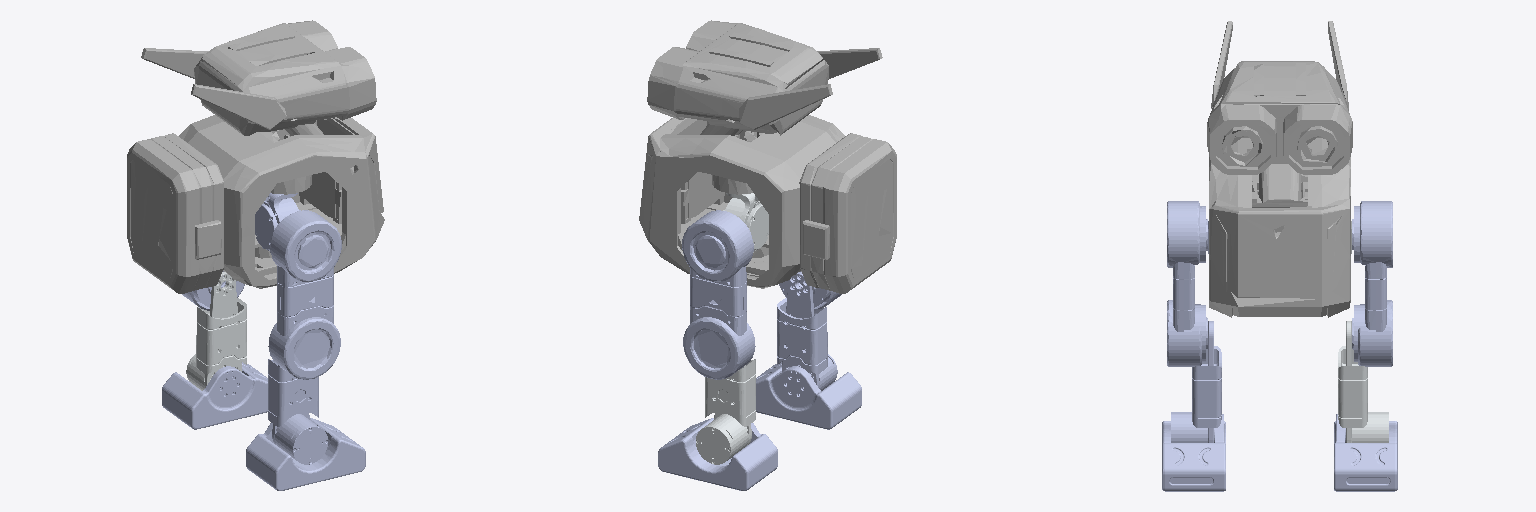
URDF robot description (kudada):
<?xml version="1.0" encoding="utf-8"?>
<!-- This URDF was automatically created by SolidWorks to URDF Exporter! Originally created by Stephen Brawner (brawner@gmail.com) 
     Commit Version: 1.6.0-4-g7f85cfe  Build Version: 1.6.7995.38578
     For more information, please see http://wiki.ros.org/sw_urdf_exporter -->
<robot
  name="kudada">
 <mujoco>
    <compiler
      meshdir="meshes/"
      balanceinertia="true"
      discardvisual="false" />
  </mujoco>
  <link
    name="base_link">
    <inertial>
      <origin
        xyz="-0.017221 0.0018941 0.12559"
        rpy="0 0 0" />
      <mass
         value="6.88358184" />
      <inertia
        ixx="0.05288804"
        ixy="-0.00074173"
        ixz="-0.00220846"
        iyy="0.10317140"
        iyz="-0.00015648"
        izz="0.08489837" />
    </inertial>
    <visual>
      <origin
        xyz="0 0 0"
        rpy="0 0 0" />
      <geometry>
        <mesh
          filename="./meshes/base_link.STL" />
      </geometry>
      <material
        name="">
        <color
          rgba="0.752941176470588 0.752941176470588 0.752941176470588 1" />
      </material>
    </visual>
    <collision>
      <origin
        xyz="0 0 0"
        rpy="0 0 0" />
      <geometry>
        <mesh
          filename="./meshes/base_link.STL" />
      </geometry>
    </collision>
  </link>
  <link
    name="left_leg_hip_yaw_link">
    <inertial>
      <origin
        xyz="-0.0113132110971734 3.39888130022198E-06 -0.0502782907554844"
        rpy="0 0 0" />
        <mass
        value="0.24208879" />
      <inertia
        ixx="0.00023768"
        ixy="0.00000000"
        ixz="-0.00001038"
        iyy="0.00018515"
        iyz="0.00000000"
        izz="0.00012378" />
    </inertial>
    <visual>
      <origin
        xyz="0 0 0"
        rpy="0 0 0" />
      <geometry>
        <mesh
          filename="./meshes/left_yaw_Link.STL" />
      </geometry>
      <material
        name="">
        <color
          rgba="0.898039215686275 0.917647058823529 0.929411764705882 1" />
      </material>
    </visual>
    <!-- <collision>
      <origin
        xyz="0 0 0"
        rpy="0 0 0" />
      <geometry>
        <mesh
          filename="./meshes/left_yaw_Link.STL" />
      </geometry>
    </collision> -->
  </link>
  <joint
    name="left_leg_hip_yaw_joint"
    type="revolute">
    <origin
      xyz="0.0021529 0.048 0.1225"
      rpy="0 0 0" />
    <parent
      link="base_link" />
    <child
      link="left_leg_hip_yaw_link" />
    <axis
      xyz="0 0 1" />
    <limit
      lower="-0.66"
      upper="0.66"
      effort="12"
      velocity="20" />
  </joint>
  <link
    name="left_leg_hip_roll_link">
    <inertial>
      <origin
        xyz="-0.00530397952891303 0.0286195707538739 5.55294699111641E-12"
        rpy="0 0 0" />
     <mass
        value="0.05746616" />
      <inertia
        ixx="0.00003268"
        ixy="0.00000947"
        ixz="0.00000000"
        iyy="0.00001877"
        iyz="0.00000000"
        izz="0.00003543" />
    </inertial>
    <visual>
      <origin
        xyz="0 0 0"
        rpy="0 0 0" />
      <geometry>
        <mesh
          filename="./meshes/left_roll_Link.STL" />
      </geometry>
      <material
        name="">
        <color
          rgba="0.898039215686275 0.917647058823529 0.929411764705882 1" />
      </material>
    </visual>
    <!-- <collision>
      <origin
        xyz="0 0 0"
        rpy="0 0 0" />
      <geometry>
        <mesh
          filename="./meshes/left_roll_Link.STL" />
      </geometry>
    </collision> -->
  </link>
  <joint
    name="left_leg_hip_roll_joint"
    type="revolute">
    <origin
      xyz="0.0115 0 -0.0572"
      rpy="0 0 0" />
    <parent
      link="left_leg_hip_yaw_link" />
    <child
      link="left_leg_hip_roll_link" />
    <axis
      xyz="1 0 0" />
    <limit
      lower="-0.57"
      upper="0.57"
      effort="20"
      velocity="20" />
  </joint>
  <link
    name="left_leg_hip_pitch_link">
    <inertial>
      <origin
        xyz="-0.000701920317146082 0.030511142063064 -0.0742626802837654"
        rpy="0 0 0" />
   <mass
        value="0.65305052" />
      <inertia
        ixx="0.00332594"
        ixy="0.00000034"
        ixz="-0.00003030"
        iyy="0.00354141"
        iyz="0.00001107"
        izz="0.00043907" />
    </inertial>
    <visual>
      <origin
        xyz="0 0 0"
        rpy="0 0 0" />
      <geometry>
        <mesh
          filename="./meshes/left_hip_pitch_Link.STL" />
      </geometry>
      <material
        name="">
        <color
          rgba="0.792156862745098 0.819607843137255 0.933333333333333 1" />
      </material>
    </visual>
    <!-- <collision>
      <origin
        xyz="0 0 0"
        rpy="0 0 0" />
      <geometry>
        <mesh
          filename="./meshes/left_hip_pitch_Link.STL" />
      </geometry>
    </collision> -->
  </link>
  <joint
    name="left_leg_hip_pitch_joint"
    type="revolute">
    <origin
      xyz="-0.0245 0.0505 0"
      rpy="0 0 0" />
    <parent
      link="left_leg_hip_roll_link" />
    <child
      link="left_leg_hip_pitch_link" />
    <axis
      xyz="0 1 0" />
    <limit
      lower="-1.57"
      upper="1.57"
      effort="20"
      velocity="20" />
  </joint>
  <link
    name="left_leg_knee_pitch_link">
    <inertial>
      <origin
        xyz="-0.000342965208265886 0.00892811710655056 -0.10827125730985"
        rpy="0 0 0" />
     <mass
        value="0.31486113" />
      <inertia
        ixx="0.00082666"
        ixy="-0.00000058"
        ixz="-0.00000277"
        iyy="0.00081264"
        iyz="0.00014641"
        izz="0.00018333" />
    </inertial>
    <visual>
      <origin
        xyz="0 0 0"
        rpy="0 0 0" />
      <geometry>
        <mesh
          filename="./meshes/left_knee_Link.STL" />
      </geometry>
      <material
        name="">
        <color
          rgba="0.898039215686275 0.917647058823529 0.929411764705882 1" />
      </material>
    </visual>
    <!-- <collision>
      <origin
        xyz="0 0 0"
        rpy="0 0 0" />
      <geometry>
        <mesh
          filename="./meshes/left_knee_Link.STL" />
      </geometry>
    </collision> -->
    <collision>
			<origin xyz="0 0.016 -0.08" rpy="0 0 0" />
			<geometry>
				<box size="0.05 0.05 0.18" />
			</geometry>
		</collision>
  </link>
  <joint
    name="left_leg_knee_pitch_joint"
    type="revolute">
    <origin
      xyz="-0.0015968 0 -0.14999"
      rpy="0 0 0" />
    <parent
      link="left_leg_hip_pitch_link" />
    <child
      link="left_leg_knee_pitch_link" />
    <axis
      xyz="0 1 0" />
    <limit
      lower="0"
      upper="2.57"
      effort="20"
      velocity="20" />
  </joint>
  <link
    name="left_leg_ankle_pitch_link">
    <inertial>
      <origin
        xyz="0.0110325906087648 0.0151965740806407 -0.0294957943457195"
        rpy="0 0 0" />
      <mass
        value="0.29074248" />
      <inertia
        ixx="0.00027577"
        ixy="-0.00001895"
        ixz="0.00000342"
        iyy="0.00053056"
        iyz="0.00003713"
        izz="0.00061796" />
    </inertial>
    <visual>
      <origin
        xyz="0 0 0"
        rpy="0 0 0" />
      <geometry>
        <mesh
          filename="./meshes/left_leg_pitch_Link.STL" />
      </geometry>
      <material
        name="">
        <color
          rgba="0.792156862745098 0.819607843137255 0.933333333333333 1" />
      </material>
    </visual>
    <!-- <collision>
      <origin
        xyz="0 0 0"
        rpy="0 0 0" />
      <geometry>
        <mesh
          filename="./meshes/left_leg_pitch_Link.STL" />
      </geometry>
    </collision> -->
    <!-- 平板脚掌碰撞（原双细圆柱备份 ↓） -->
    <!-- <collision>
			<origin xyz="0.012 -0.016 -0.047" rpy="0 -1.5708 0" />
			<geometry>
				<cylinder radius="0.0070" length="0.14" />
			</geometry>
		</collision>
    <collision>
			<origin xyz="0.012 0.055 -0.047" rpy="0 -1.5708 0" />
			<geometry>
				<cylinder radius="0.0070" length="0.14" />
			</geometry>
		</collision> -->
    <collision>
        <origin xyz="0.012 0.02 -0.049" rpy="0 0 0" />
        <geometry>
            <box size="0.13 0.08 0.01" />
        </geometry>
    </collision>
  </link>
  <joint
    name="left_leg_ankle_pitch_joint"
    type="revolute">
    <origin
      xyz="-0.000519531994968627 -0.000900000000004564 -0.149999100285663"
      rpy="0 0 0" />
    <parent
      link="left_leg_knee_pitch_link" />
    <child
      link="left_leg_ankle_pitch_link" />
    <axis
      xyz="0 1 0" />
    <limit
      lower="-0.55"
      upper="0.55"
      effort="12"
      velocity="20" />
  </joint>
  <link
    name="right_leg_hip_yaw_link">
    <inertial>
      <origin
        xyz="-0.0113132110971734 -3.39888130022198E-06 -0.0502782907554844"
        rpy="0 0 0" />
      <mass
        value="0.24208879" />
      <inertia
        ixx="0.00023768"
        ixy="0.00000000	"
        ixz="-0.00001038"
        iyy="0.00018515"
        iyz="0.00000000"
        izz="0.00012378" />
    </inertial>
    <visual>
      <origin
        xyz="0 0 0"
        rpy="0 0 0" />
      <geometry>
        <mesh
          filename="./meshes/right_yaw_Link.STL" />
      </geometry>
      <material
        name="">
        <color
          rgba="0.792156862745098 0.819607843137255 0.933333333333333 1" />
      </material>
    </visual>
    <!-- <collision>
      <origin
        xyz="0 0 0"
        rpy="0 0 0" />
      <geometry>
        <mesh
          filename="./meshes/right_yaw_Link.STL" />
      </geometry>
    </collision> -->
  </link>
  <joint
    name="right_leg_hip_yaw_joint"
    type="revolute">
    <origin
      xyz="0.0021529 -0.048 0.1225"
      rpy="0 0 0" />
    <parent
      link="base_link" />
    <child
      link="right_leg_hip_yaw_link" />
    <axis
      xyz="0 0 1" />
    <limit
      lower="-0.66"
      upper="0.66"
      effort="12"
      velocity="20" />
  </joint>
  <link
    name="right_leg_hip_roll_link">
    <inertial>
      <origin
        xyz="-0.00530397952891313 -0.0286195707538736 -1.01385566608769E-11"
        rpy="0 0 0" />
         <mass
        value="0.05746616" />
      <inertia
        ixx="0.00003268"
        ixy="-0.00000947"
        ixz="0.00000000"
        iyy="0.00001877"
        iyz="0.00000000"
        izz="0.00003543" />
    </inertial>
    <visual>
      <origin
        xyz="0 0 0"
        rpy="0 0 0" />
      <geometry>
        <mesh
          filename="./meshes/right_roll_Link.STL" />
      </geometry>
      <material
        name="">
        <color
          rgba="0.792156862745098 0.819607843137255 0.933333333333333 1" />
      </material>
    </visual>
    <!-- <collision>
      <origin
        xyz="0 0 0"
        rpy="0 0 0" />
      <geometry>
        <mesh
          filename="./meshes/right_roll_Link.STL" />
      </geometry>
    </collision> -->
  </link>
  <joint
    name="right_leg_hip_roll_joint"
    type="revolute">
    <origin
      xyz="0.0115000000000055 0 -0.0572000000000007"
      rpy="0 0 0" />
    <parent
      link="right_leg_hip_yaw_link" />
    <child
      link="right_leg_hip_roll_link" />
    <axis
      xyz="1 0 0" />
    <limit
      lower="-0.57"
      upper="0.57"
      effort="20"
      velocity="20" />
  </joint>
  <link
    name="right_leg_hip_pitch_link">
    <inertial>
      <origin
        xyz="-0.000701920317146082 -0.030511142063064 -0.0742626802837654"
        rpy="0 0 0" />
     <mass
        value="0.65305052" />
      <inertia
        ixx="0.00332594"
        ixy="0.00000034	"
        ixz="-0.00003030"
        iyy="0.00354141"
        iyz="0.00001107"
        izz="0.00043907" />
    </inertial>
    <visual>
      <origin
        xyz="0 0 0"
        rpy="0 0 0" />
      <geometry>
        <mesh
          filename="./meshes/right_hip_pitch_Link.STL" />
      </geometry>
      <material
        name="">
        <color
          rgba="0.792156862745098 0.819607843137255 0.933333333333333 1" />
      </material>
    </visual>
    <!-- <collision>
      <origin
        xyz="0 0 0"
        rpy="0 0 0" />
      <geometry>
        <mesh
          filename="./meshes/right_hip_pitch_Link.STL" />
      </geometry>
    </collision> -->
  </link>
  <joint
    name="right_leg_hip_pitch_joint"
    type="revolute">
    <origin
      xyz="-0.0244999999999994 -0.0505000000000059 0"
      rpy="0 0 0" />
    <parent
      link="right_leg_hip_roll_link" />
    <child
      link="right_leg_hip_pitch_link" />
    <axis
      xyz="0 1 0" />
    <limit
      lower="-1.57"
      upper="1.57"
      effort="20"
      velocity="20" />
  </joint>
  <link
    name="right_leg_knee_pitch_link">
    <inertial>
      <origin
        xyz="-0.000342965208265886 -0.00892811710655056 -0.10827125730985"
        rpy="0 0 0" />
     <mass
        value="0.31486113" />
      <inertia
        ixx="0.00082666"
        ixy="-0.00000058"
        ixz="-0.00000277"
        iyy="0.00081264"
        iyz="-0.00014641"
        izz="0.00018333" />
    </inertial>
    <visual>
      <origin
        xyz="0 0 0"
        rpy="0 0 0" />
      <geometry>
        <mesh
          filename="./meshes/right_knee_Link.STL" />
      </geometry>
      <material
        name="">
        <color
          rgba="0.792156862745098 0.819607843137255 0.933333333333333 1" />
      </material>
    </visual>
    <!-- <collision>
      <origin
        xyz="0 0 0"
        rpy="0 0 0" />
      <geometry>
        <mesh
          filename="./meshes/right_knee_Link.STL" />
      </geometry>
    </collision> -->
    <collision>
			<origin xyz="0 -0.016 -0.08" rpy="0 0 0" />
			<geometry>
				<box size="0.05 0.05 0.18" />
			</geometry>
		</collision>
  </link>
  <joint
    name="right_leg_knee_pitch_joint"
    type="revolute">
    <origin
      xyz="-0.00159681543011676 0 -0.149991500360794"
      rpy="0 0 0" />
    <parent
      link="right_leg_hip_pitch_link" />
    <child
      link="right_leg_knee_pitch_link" />
    <axis
      xyz="0 1 0" />
    <limit
      lower="0"
      upper="2.57"
      effort="20"
      velocity="20" />
  </joint>
  <link
    name="right_leg_ankle_pitch_link">
    <inertial>
      <origin
        xyz="0.0110325901727659 -0.015196573642049 -0.0294957941596527"
        rpy="0 0 0" />
       <mass
        value="0.29074248" />
      <inertia
        ixx="0.00027577"
        ixy="0.00001895"
        ixz="0.00000342"
        iyy="0.00053056"
        iyz="-0.00003713"
        izz="0.00061796" />
    </inertial>
    <visual>
      <origin
        xyz="0 0 0"
        rpy="0 0 0" />
      <geometry>
        <mesh
          filename="./meshes/right_leg_pitch_Link.STL" />
      </geometry>
      <material
        name="">
        <color
          rgba="0.792156862745098 0.819607843137255 0.933333333333333 1" />
      </material>
    </visual>
    <!-- <collision>
      <origin
        xyz="0 0 0"
        rpy="0 0 0" />
      <geometry>
        <mesh
          filename="./meshes/right_leg_pitch_Link.STL" />
      </geometry>
    </collision> -->
    <!-- 平板脚掌碰撞（原双细圆柱备份 ↓） -->
    <!-- <collision>
			<origin xyz="0.012 0.016 -0.047" rpy="0 -1.5708 0" />
			<geometry>
				<cylinder radius="0.0070" length="0.14" />
			</geometry>
		</collision>
    <collision>
			<origin xyz="0.012 -0.055 -0.047" rpy="0 -1.5708 0" />
			<geometry>
				<cylinder radius="0.0070" length="0.14" />
			</geometry>
		</collision> -->
    <collision>
        <origin xyz="0.012 -0.02 -0.049" rpy="0 0 0" />
        <geometry>
            <box size="0.13 0.08 0.01" />
        </geometry>
    </collision>
  </link>
  <joint
    name="right_leg_ankle_pitch_joint"
    type="revolute">
    <origin
      xyz="-0.000519531994967905 0.000900000000005896 -0.149999100285663"
      rpy="0 0 0" />
    <parent
      link="right_leg_knee_pitch_link" />
    <child
      link="right_leg_ankle_pitch_link" />
    <axis
      xyz="0 1 0" />
    <limit
      lower="-0.55"
      upper="0.55"
      effort="12"
      velocity="20" />
  </joint>
</robot>

--- What the picture shows (computed from the rendered views, not written in the file) ---
3 views of the same robot in one strip: view 1: azimuth 30°, elevation 25°; view 2: azimuth 150°, elevation 25°; view 3: azimuth 270°, elevation 25° (orthographic).
Model kudada with 11 links and 10 joints (10 revolute), rooted at base_link, posed all joints at 0.
Links seen in each view (by area): view 1: base_link, right_leg_hip_pitch_link, left_leg_ankle_pitch_link, right_leg_ankle_pitch_link, left_leg_knee_pitch_link, right_leg_knee_pitch_link, right_leg_hip_yaw_link, left_leg_hip_pitch_link; view 2: base_link, left_leg_hip_pitch_link, right_leg_ankle_pitch_link, right_leg_knee_pitch_link, left_leg_ankle_pitch_link, left_leg_knee_pitch_link, left_leg_hip_yaw_link; view 3: base_link, right_leg_hip_pitch_link, left_leg_hip_pitch_link, left_leg_ankle_pitch_link, right_leg_ankle_pitch_link, right_leg_knee_pitch_link, left_leg_knee_pitch_link.
Link boxes in pixels (bbox=[...]): base_link: bbox=[127, 20, 384, 293]; right_leg_hip_pitch_link: bbox=[268, 210, 341, 379]; left_leg_ankle_pitch_link: bbox=[162, 362, 267, 429]; right_leg_ankle_pitch_link: bbox=[246, 418, 365, 490]; left_leg_knee_pitch_link: bbox=[186, 272, 246, 390]; right_leg_knee_pitch_link: bbox=[268, 359, 327, 464]; right_leg_hip_yaw_link: bbox=[255, 193, 298, 252]; left_leg_hip_pitch_link: bbox=[182, 271, 244, 310]; base_link: bbox=[639, 20, 896, 293]; left_leg_hip_pitch_link: bbox=[682, 210, 755, 379]; right_leg_ankle_pitch_link: bbox=[756, 362, 861, 429]; right_leg_knee_pitch_link: bbox=[777, 272, 837, 390]; left_leg_ankle_pitch_link: bbox=[658, 418, 777, 490]; left_leg_knee_pitch_link: bbox=[696, 359, 755, 464]; left_leg_hip_yaw_link: bbox=[725, 193, 768, 252]; base_link: bbox=[1207, 21, 1352, 317]; right_leg_hip_pitch_link: bbox=[1167, 201, 1207, 366]; left_leg_hip_pitch_link: bbox=[1352, 201, 1392, 366]; left_leg_ankle_pitch_link: bbox=[1334, 414, 1397, 491]; right_leg_ankle_pitch_link: bbox=[1162, 414, 1225, 491]; right_leg_knee_pitch_link: bbox=[1171, 321, 1221, 442]; left_leg_knee_pitch_link: bbox=[1338, 321, 1388, 442].
Bounding box of the posed robot: 0.3427 × 0.3222 × 0.6102 m (x, y, z).
Meshes: 11 distinct files referenced, 11 mesh visuals loaded (11 binary STL).
